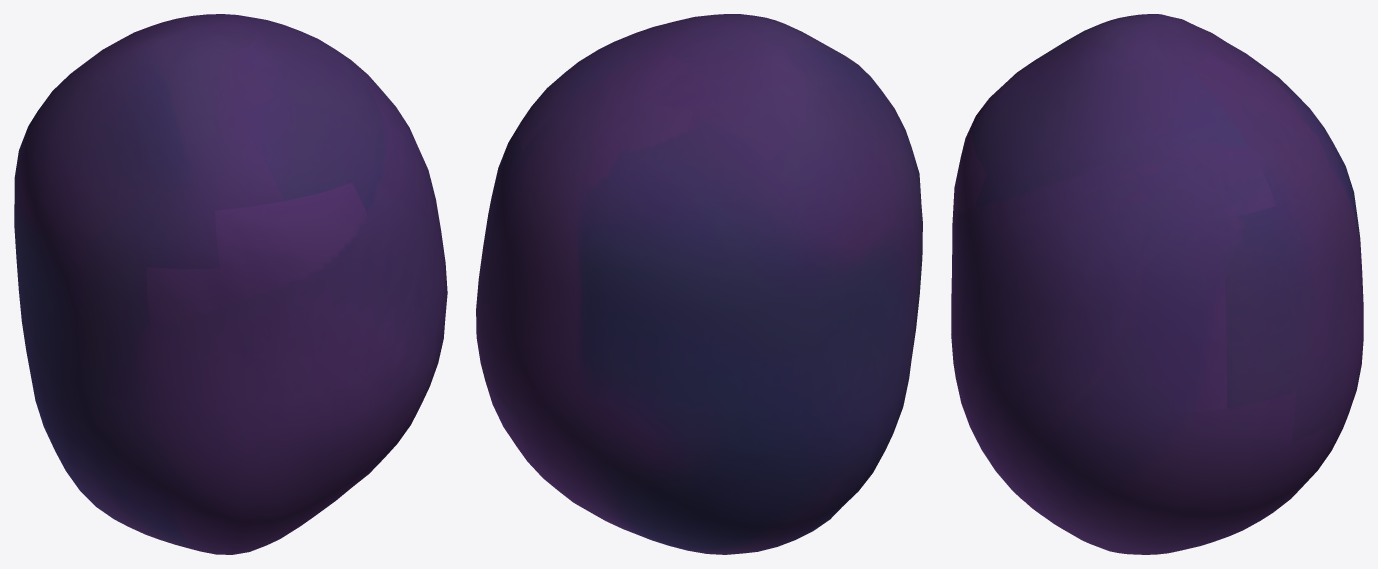
File: SingularGrape.fbx
3 renders of one model, left to right at view 1: azimuth 30°, elevation 25°; view 2: azimuth 150°, elevation 25°; view 3: azimuth 270°, elevation 25°, orthographic. The views are drawn at different scales.
Parts seen in each view (by area): view 1: Berrys.001; view 2: Berrys.001; view 3: Berrys.001.
Boxes of the visible parts, <box> form: Berrys.001: <box>14,14,447,554</box>; Berrys.001: <box>476,14,922,554</box>; Berrys.001: <box>951,14,1363,554</box>.
Size of the model in its own units: 102 by 133 by 99.
